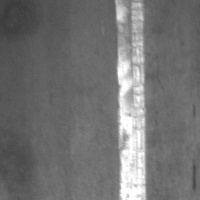scratches: (112, 1, 151, 200)
